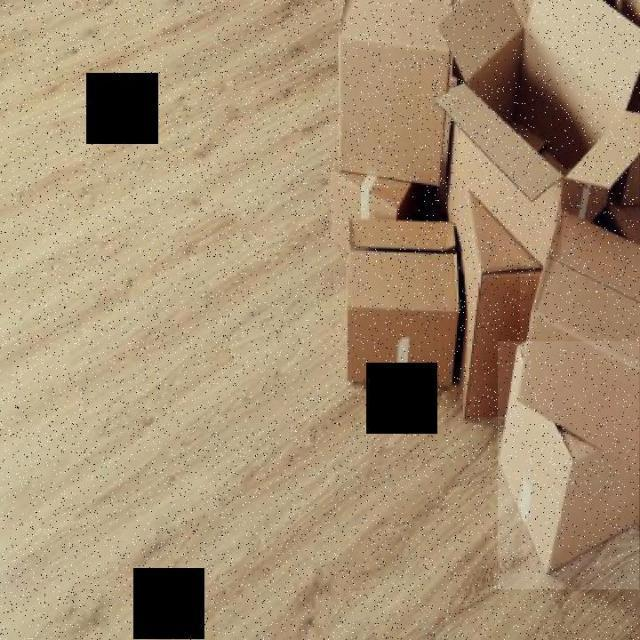box: (441, 0, 639, 274), (498, 342, 640, 590), (520, 210, 640, 442), (339, 0, 457, 188), (344, 214, 459, 404)
